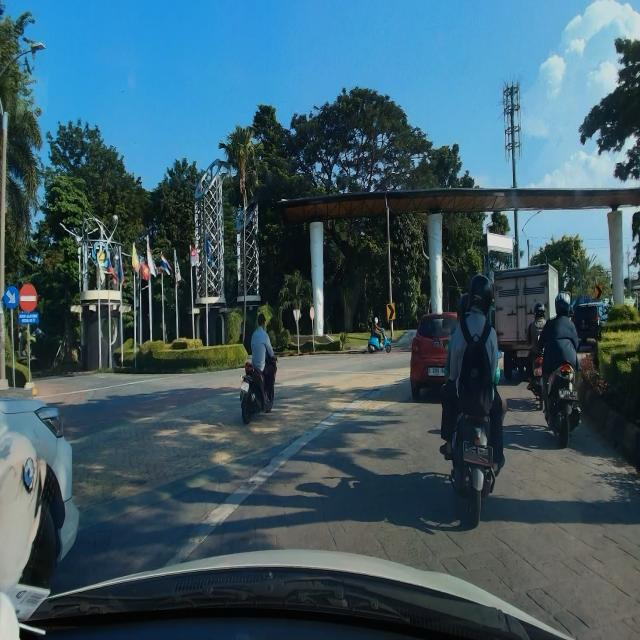car: (409, 306, 472, 402), (570, 298, 616, 353)
truck: (492, 263, 562, 382)
